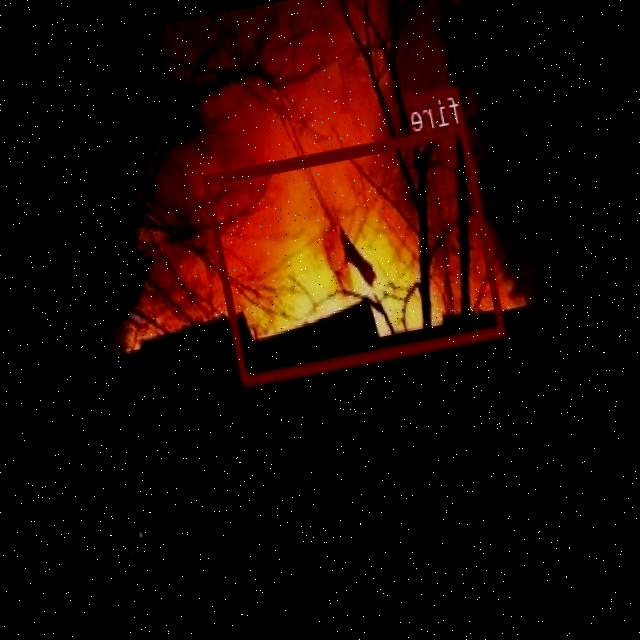fire: (204, 122, 506, 383)
